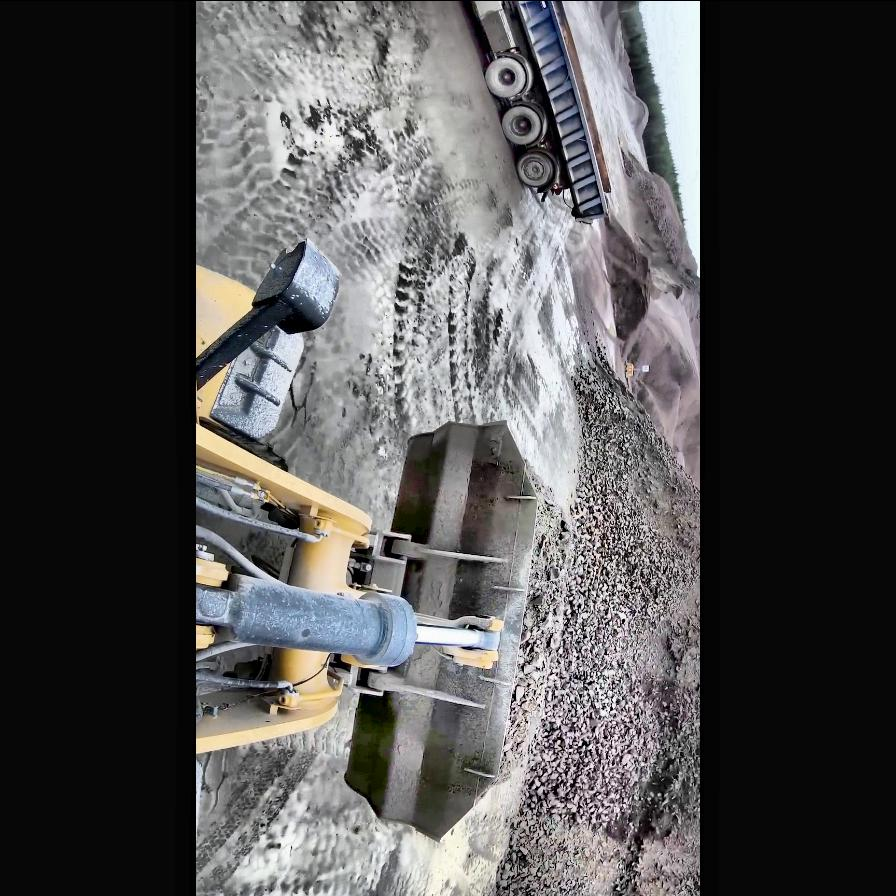anchor: (433, 614, 505, 668)
pile of gravel: (482, 338, 700, 896), (574, 148, 700, 466), (616, 152, 700, 312), (622, 80, 650, 144)
